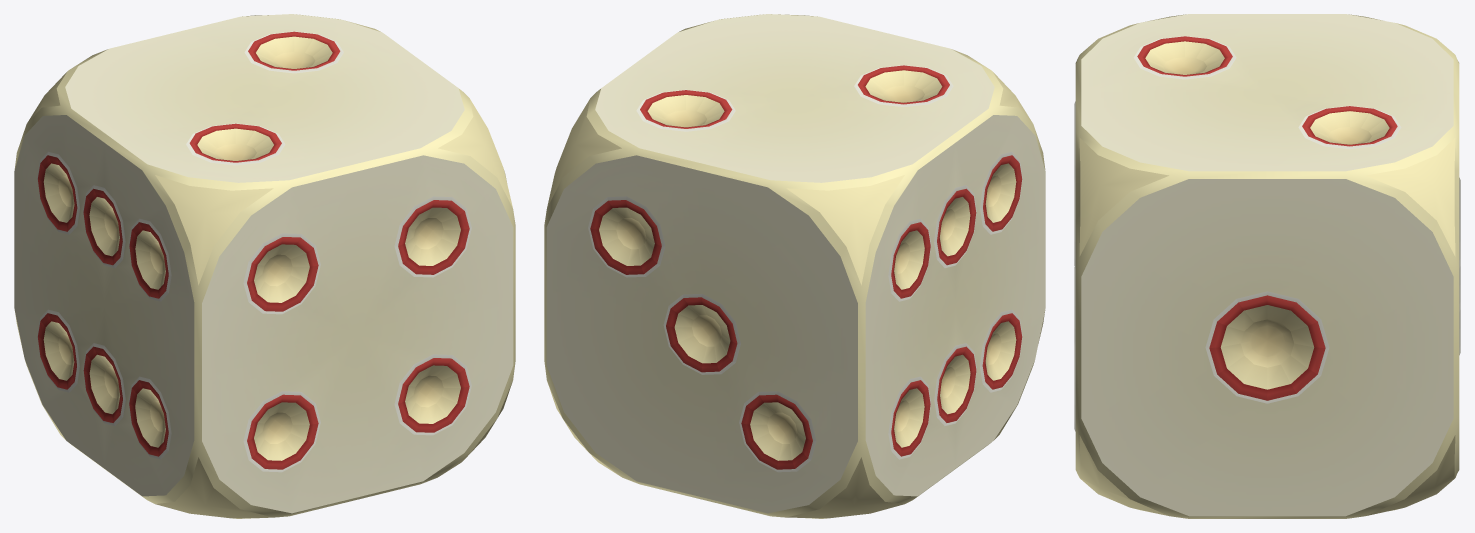
The model's file is obj_dice01.fbx.
The picture shows the model from 3 angles, left to right: view 1: azimuth 30°, elevation 25°; view 2: azimuth 150°, elevation 25°; view 3: azimuth 270°, elevation 25°; orthographic projection. The views are drawn at different scales.
Visible parts, largest first — view 1: Cube; view 2: Cube; view 3: Cube.
Boxes of the visible parts, <box> form: Cube: <box>14,14,515,518</box>; Cube: <box>544,14,1045,518</box>; Cube: <box>1074,14,1460,518</box>.
Size of the model in its own units: 201 by 201 by 201.
1 material, 1 textured.
